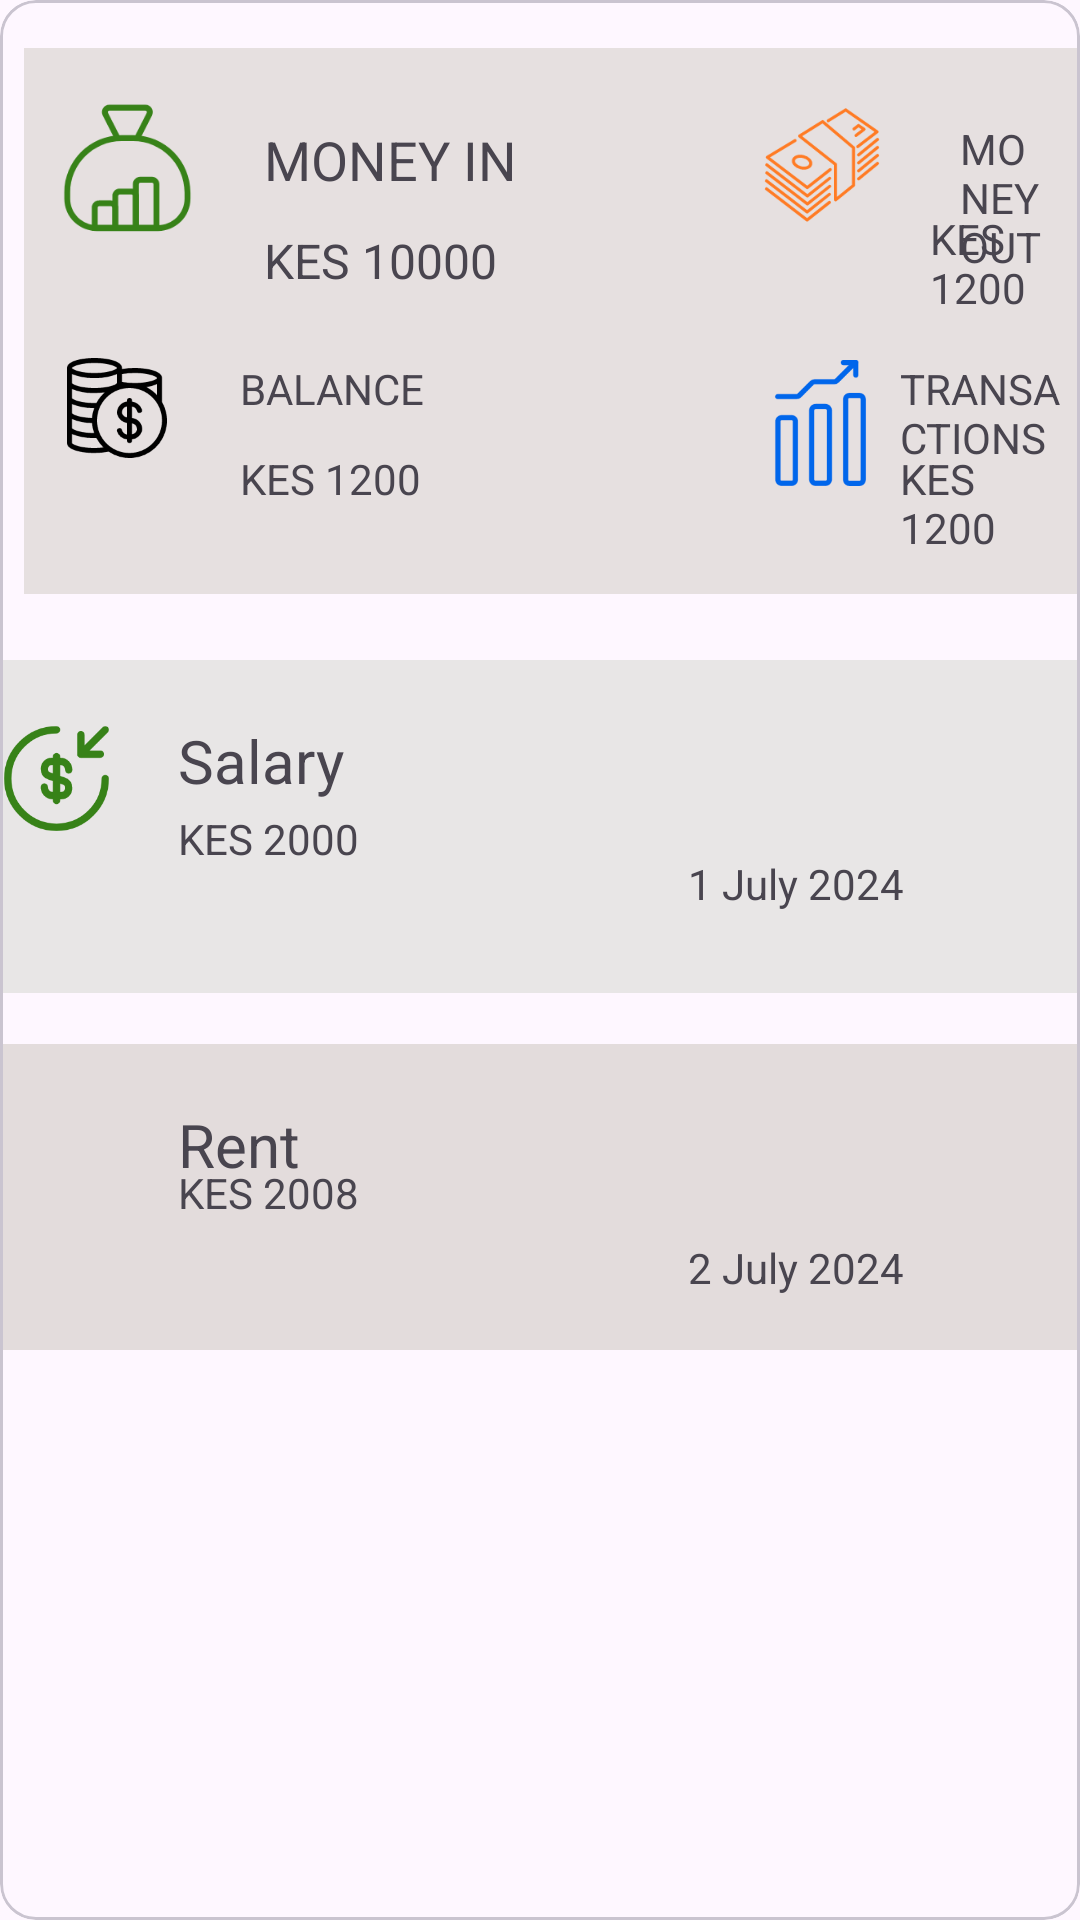

Screen size 1080px×1920px. Icon name, then its box in pixels as (x1=x1, y1=y1, x2=x2, y2=y2):
expense: (x1=765, y1=108, x2=879, y2=222)
income: (x1=64, y1=104, x2=191, y2=232), (x1=4, y1=726, x2=109, y2=831)
